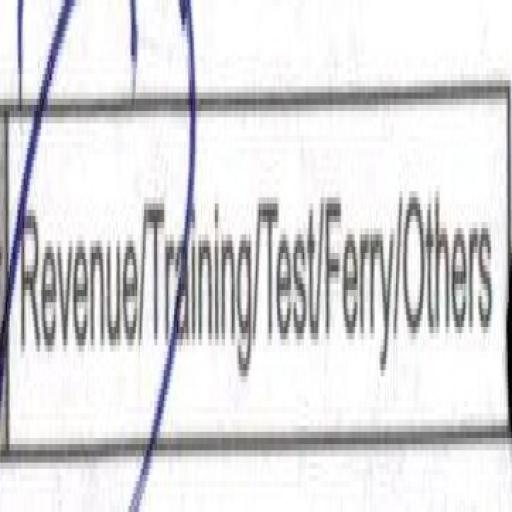check: (0, 0, 144, 512)
